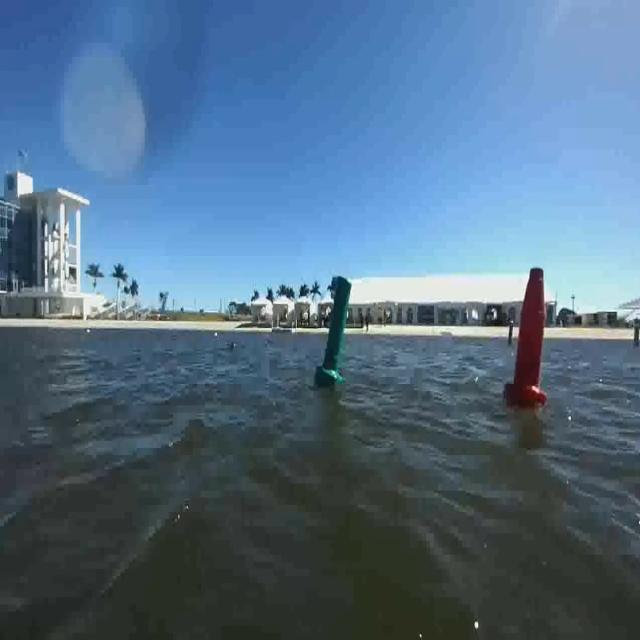green-column-buoy: (316, 274, 352, 384)
red-column-buoy: (509, 265, 553, 412)
